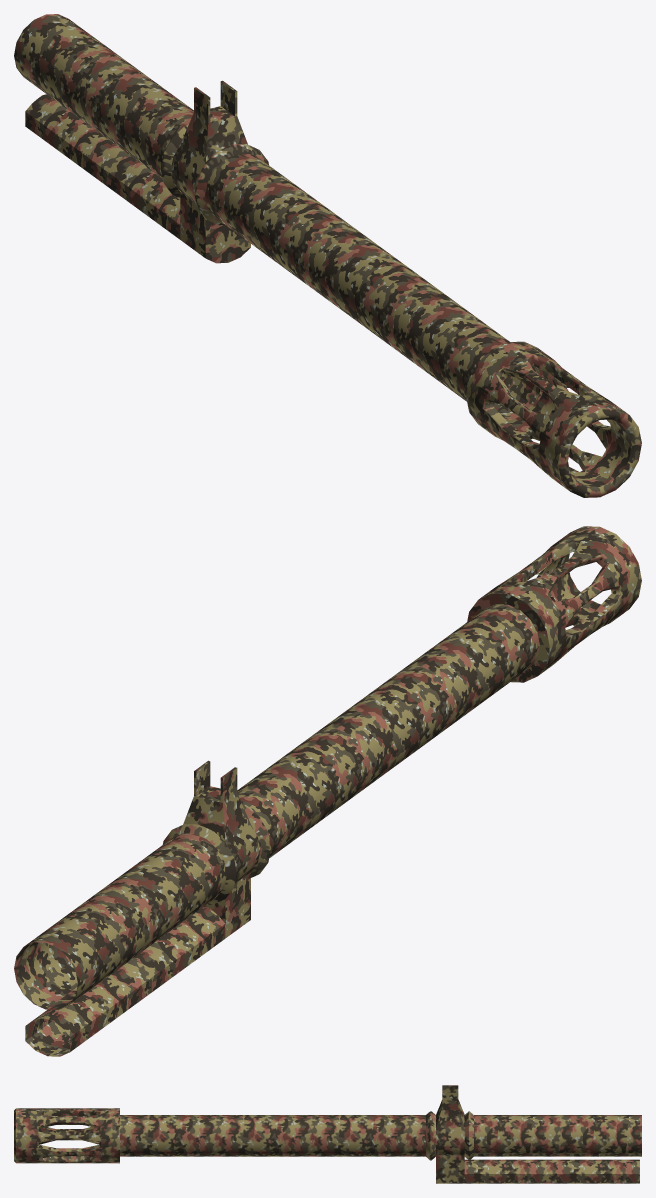
The model's file is Gun.FBX.
3 renders of one model, top to bottom at view 1: azimuth 30°, elevation 25°; view 2: azimuth 150°, elevation 25°; view 3: azimuth 270°, elevation 25°, orthographic. The views are drawn at different scales.
Parts seen in each view (by area): view 1: Cylinder001; view 2: Cylinder001; view 3: Cylinder001.
Part boxes in pixels (left/top/right/bottom): Cylinder001: left=14, top=14, right=641, bottom=497; Cylinder001: left=14, top=526, right=641, bottom=1056; Cylinder001: left=14, top=1085, right=641, bottom=1183.
Size of the model in its own units: 2.63 by 4.9 by 30.09.
Materials: 1 (1 with a texture image).
